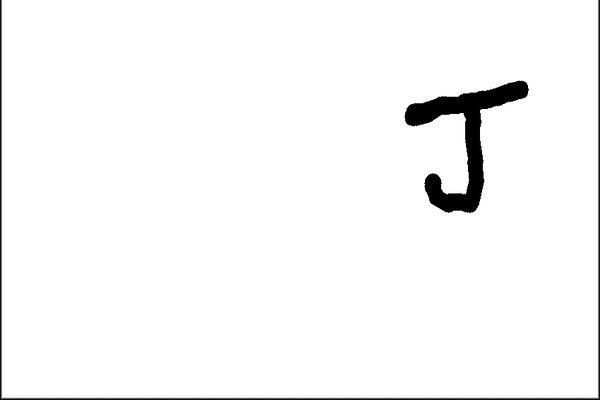J: (393, 75, 535, 220)
